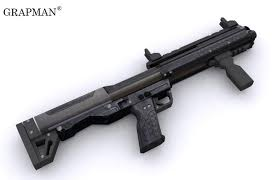weapon: (15, 17, 258, 170)
